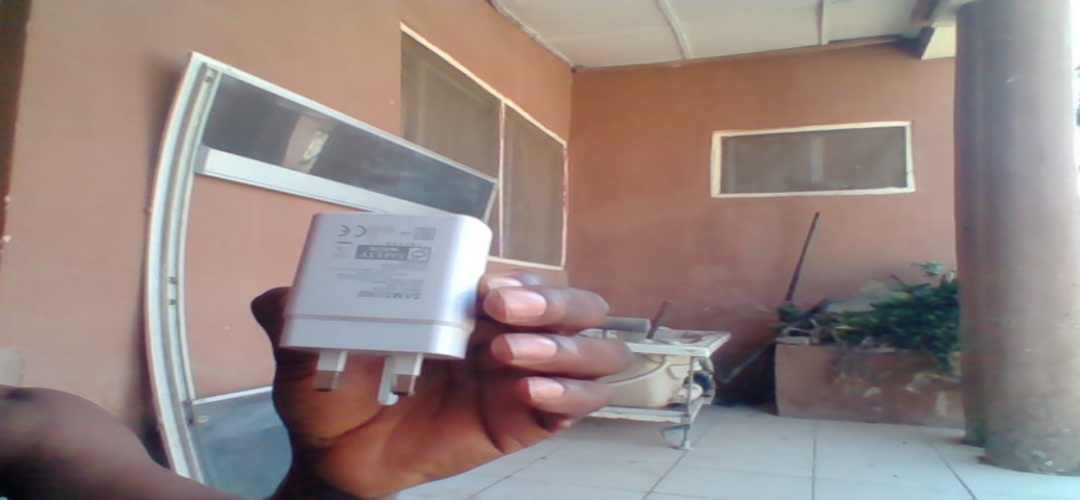phone_charger: (278, 203, 492, 417)
